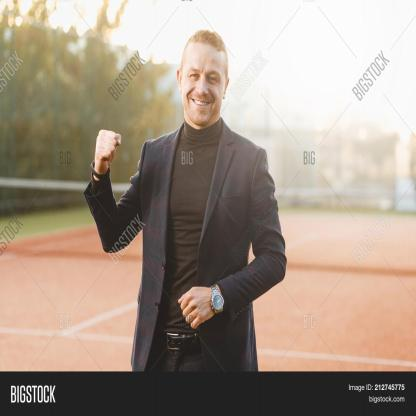fist: (84, 117, 132, 178)
